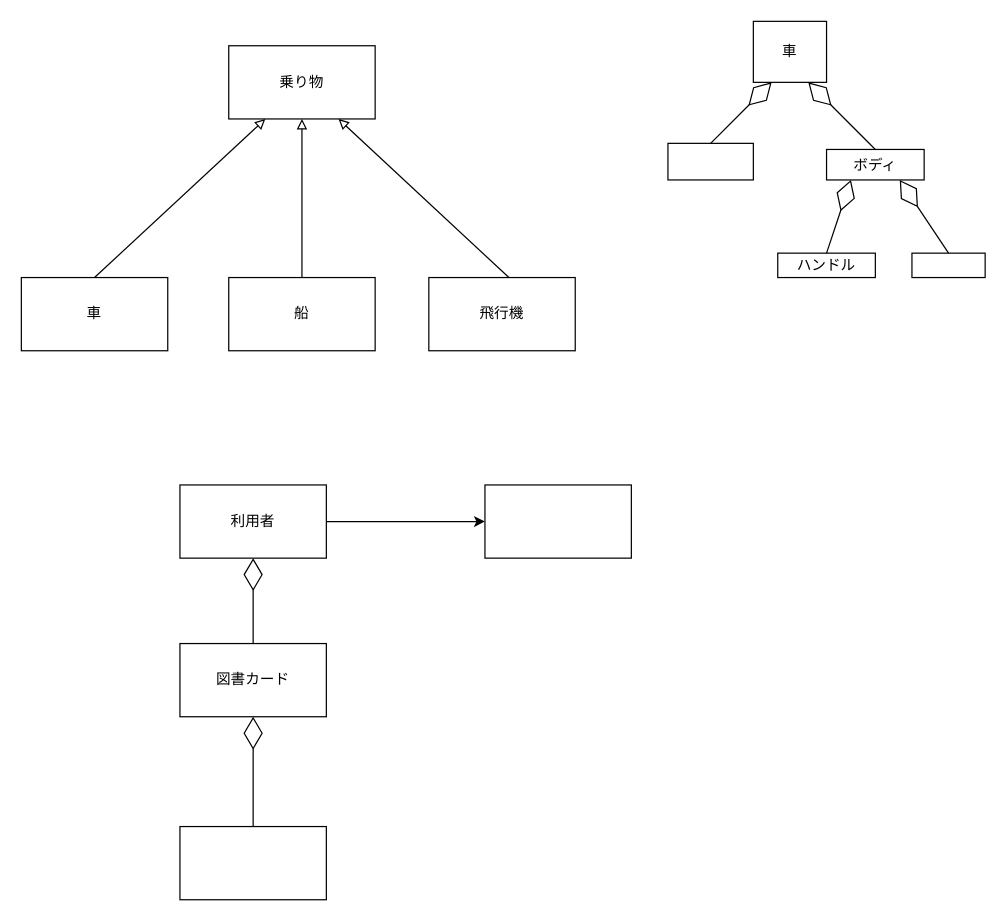
This 1007x921 diagram has some shape labels left out. Each missing label, with the box of its shape:
ID: (179, 825, 326, 900)
エンジン: (667, 142, 753, 180)
ライト: (911, 252, 985, 278)
図書: (484, 484, 631, 558)
